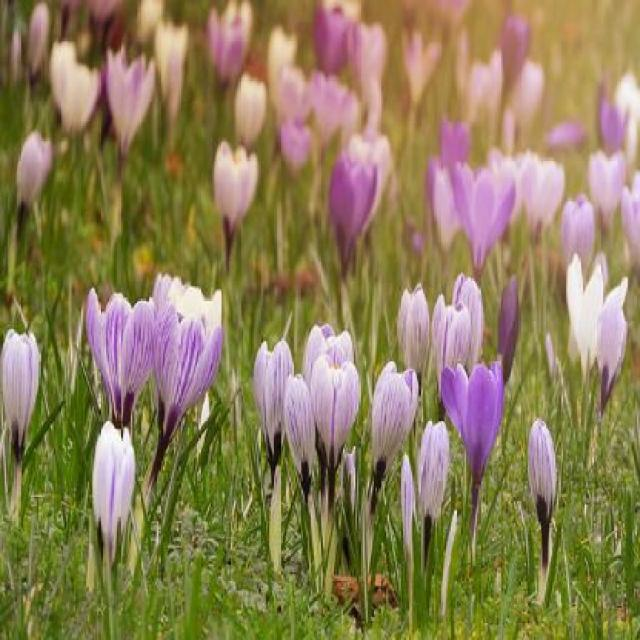Flower: (153, 293, 224, 455), (437, 354, 506, 503), (89, 278, 149, 430), (452, 155, 520, 276), (367, 352, 419, 494), (248, 336, 295, 470), (312, 350, 361, 478), (91, 428, 135, 564), (102, 46, 152, 163), (212, 135, 262, 247), (332, 138, 376, 265), (0, 325, 38, 468), (593, 279, 632, 416), (415, 416, 454, 549), (280, 368, 323, 488), (54, 41, 98, 144), (528, 418, 562, 536), (15, 129, 54, 225), (234, 74, 266, 168), (278, 115, 314, 191)
